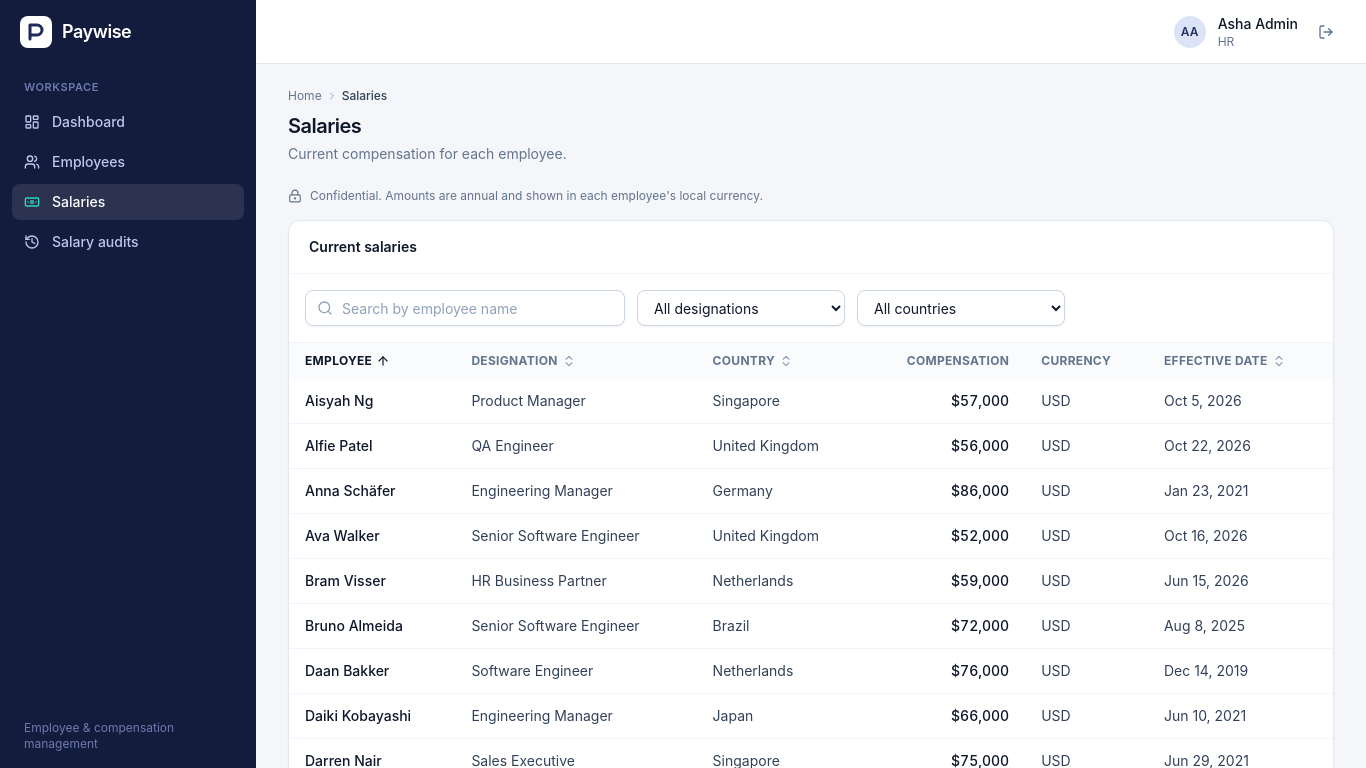
Scenario: SalaryAuditsPage › is reachable from the sidebar
What coordinates should you click on to do the following:
click the link "Salary audits"
I would click on:
 (81, 241)
Its box is x1=24 y1=233 x2=139 y2=250.
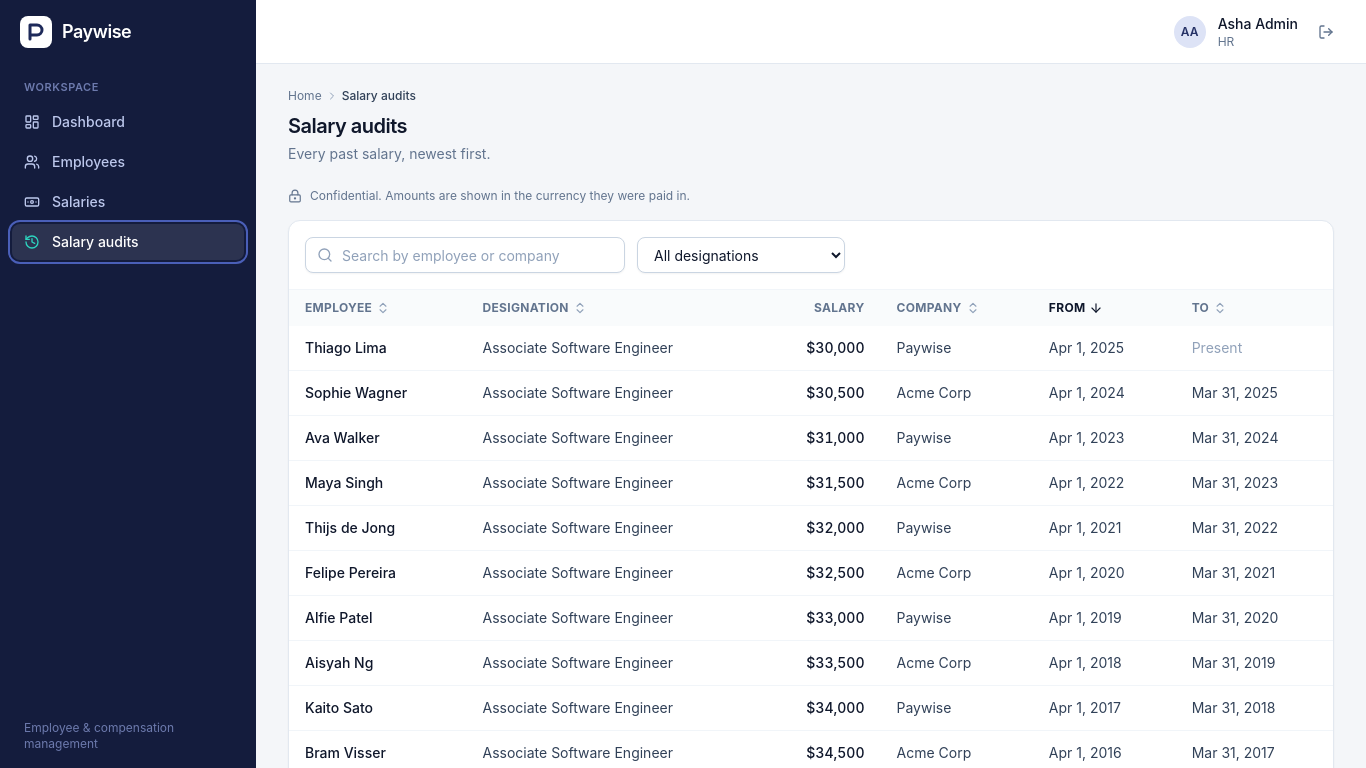
Check: the table "Employee compensation" is not shown
Check: the heading "Salary audits" is shown, box x1=288 y1=114 x2=407 y2=138
